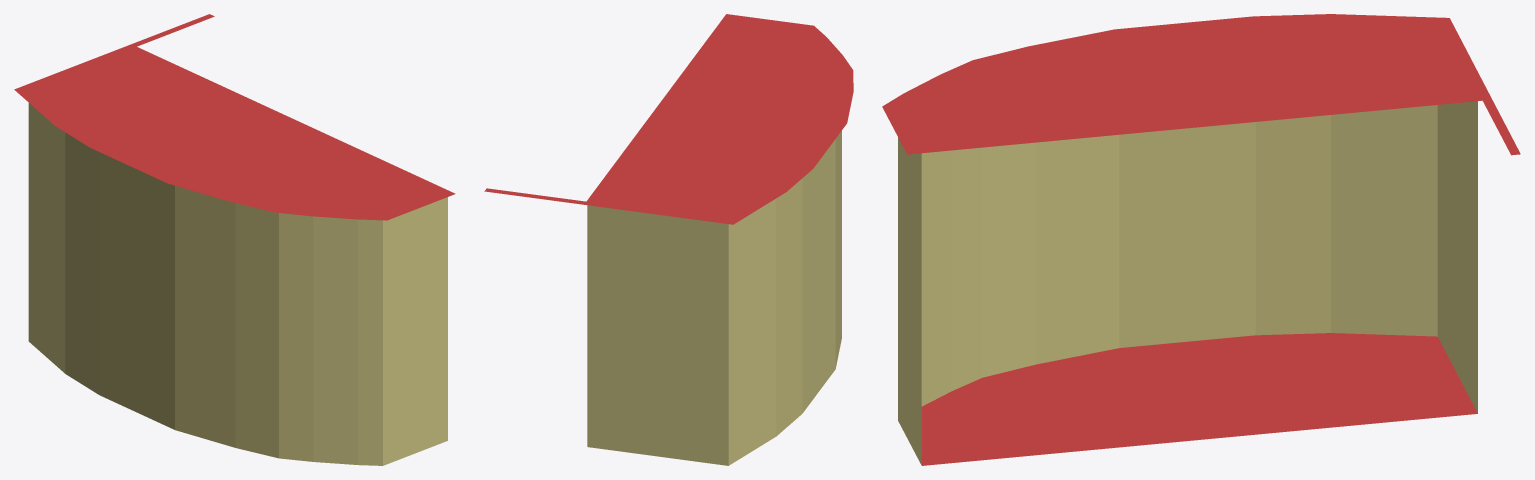
3 views of the same model, side by side, from view 1: azimuth 30°, elevation 25°; view 2: azimuth 150°, elevation 25°; view 3: azimuth 270°, elevation 25° (orthographic). The views are drawn at different scales.
Size of the model in its own units: 5.63 by 10.76 by 5.81.
